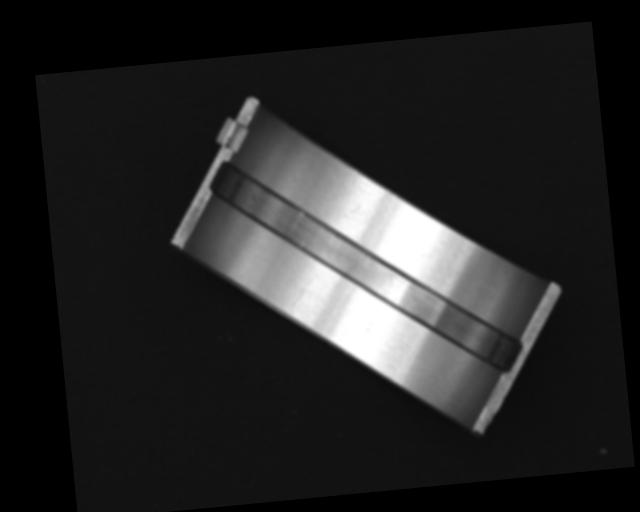gap: (208, 136, 524, 400)
nick: (290, 276, 315, 308)
